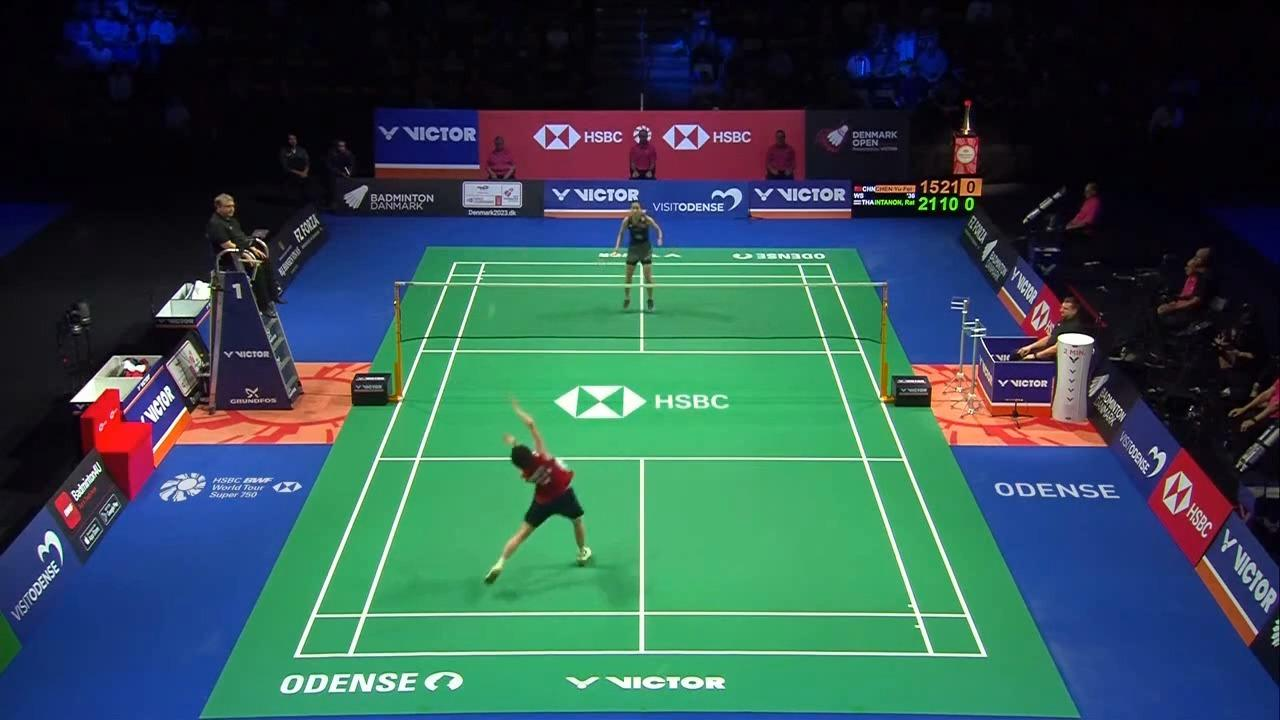shuttle: (487, 303, 497, 320)
